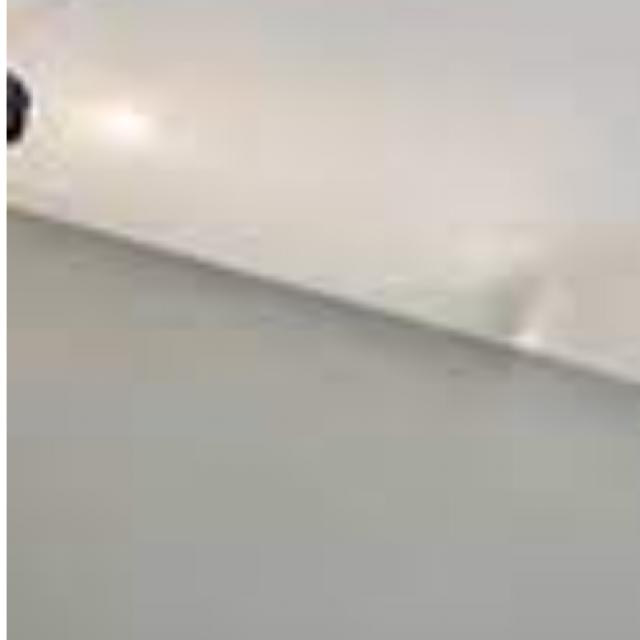dents: (489, 266, 578, 401)
